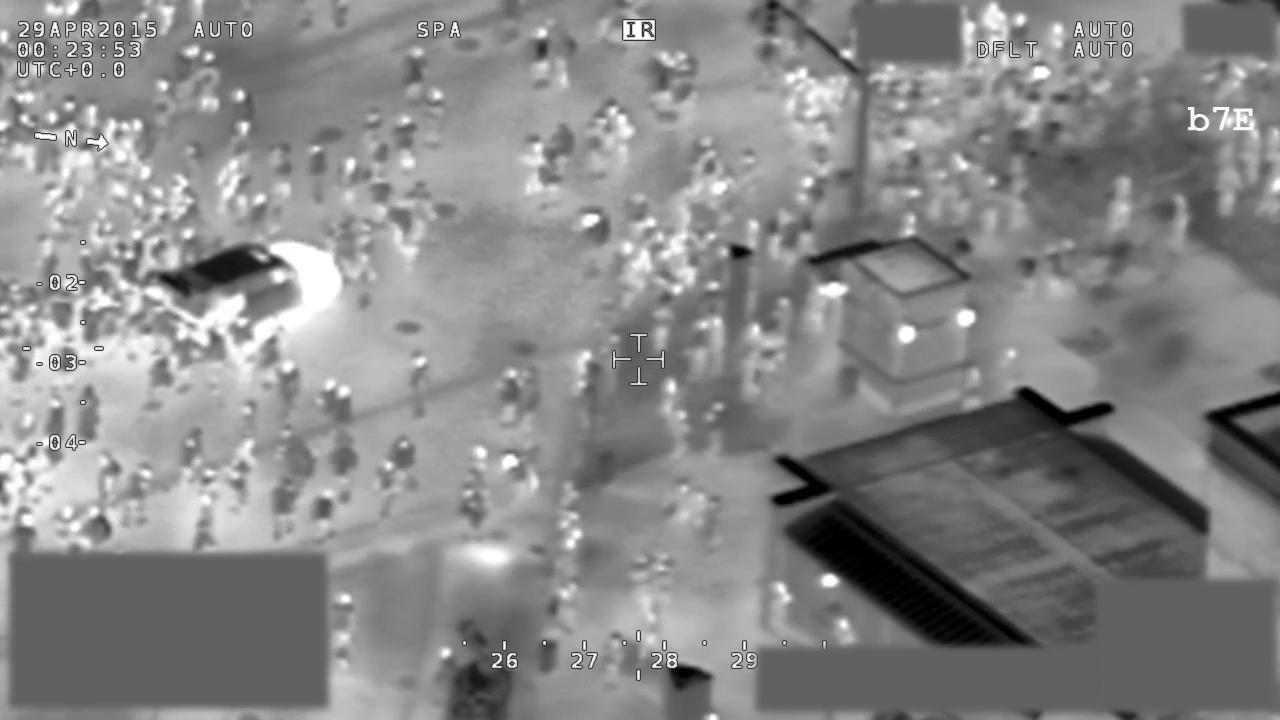vehicle: (149, 223, 349, 355)
